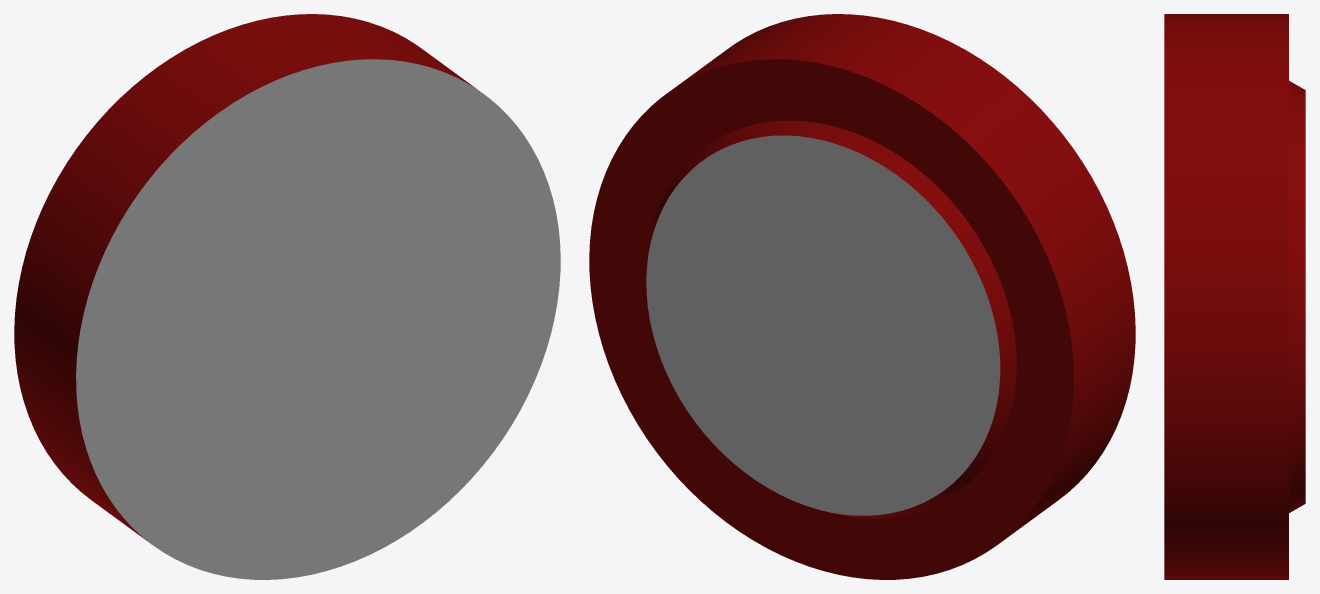
3 views of the same model, side by side, from view 1: azimuth 30°, elevation 25°; view 2: azimuth 150°, elevation 25°; view 3: azimuth 270°, elevation 25° (orthographic).
Visible parts, largest first — view 1: base_link; view 2: base_link; view 3: base_link.
Boxes of the visible parts, bbox=[...] form: base_link: bbox=[14, 14, 560, 579]; base_link: bbox=[589, 14, 1135, 579]; base_link: bbox=[1164, 14, 1305, 579].
Bounding box in the file's own units: 0.6792 × 0.17 × 0.6791.
